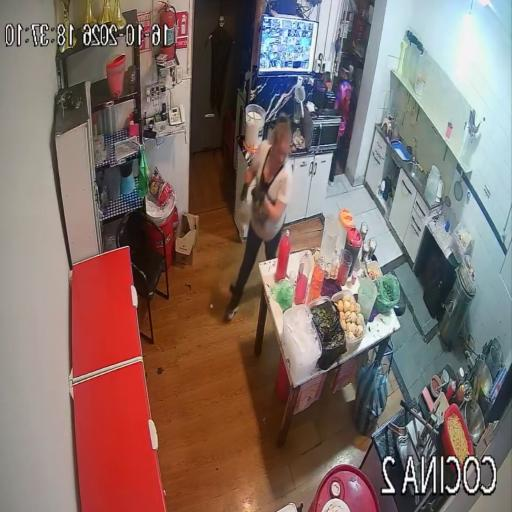Envase Ketchup: (446, 380, 455, 400)
Envase Llajua: (451, 388, 464, 405)
Jarra1: (346, 228, 362, 274)
Jarra2: (335, 208, 355, 253)
Jarra3: (320, 215, 339, 265)
Microondas: (304, 111, 341, 153)
Persona1: (329, 52, 354, 186)
Persona3: (225, 116, 293, 321)
Taper: (452, 225, 472, 261)
Taper2: (309, 296, 346, 370)
Taper3: (282, 304, 322, 384)
Taper4: (330, 290, 366, 352)
olla1: (474, 358, 493, 401)
